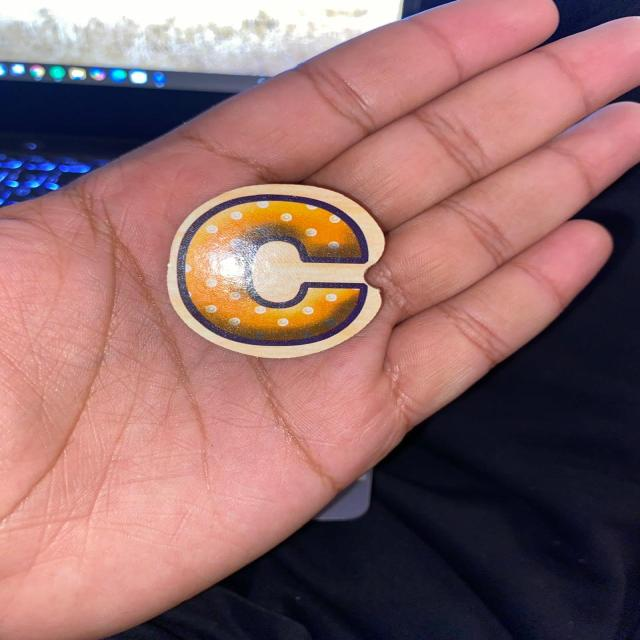C: (165, 184, 385, 358)
